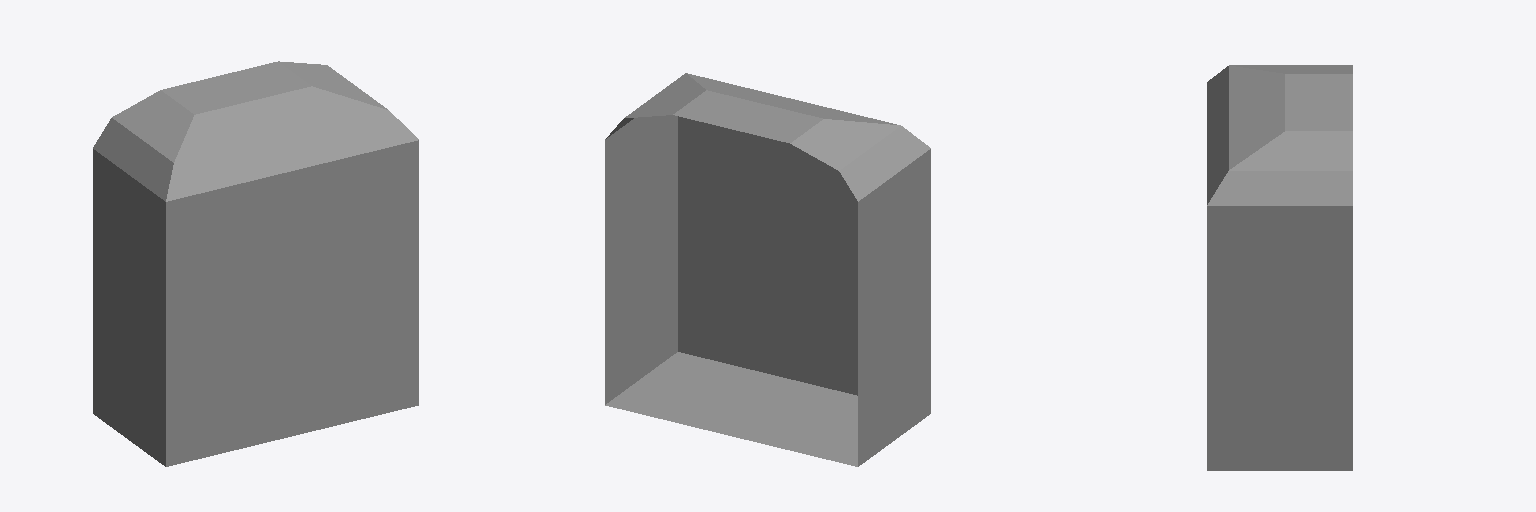
The model's file is SmoothingTest.obj.
The picture shows the model from 3 angles: view 1: azimuth 30°, elevation 25°; view 2: azimuth 150°, elevation 25°; view 3: azimuth 270°, elevation 25°; orthographic projection.
Visible parts, largest first — view 1: Cube; view 2: Cube; view 3: Cube.
Part boxes in pixels (left/top/right/bottom): Cube: left=93, top=61, right=418, bottom=466; Cube: left=605, top=73, right=930, bottom=466; Cube: left=1207, top=65, right=1352, bottom=470.
Size of the model in its own units: 2 by 2.31 by 1.